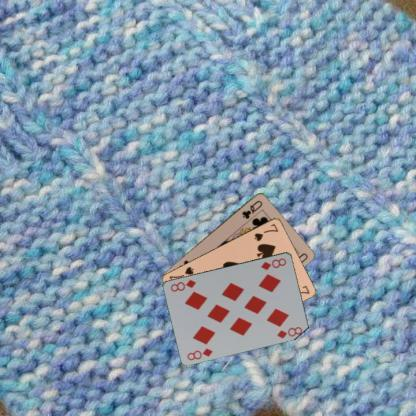7s: (252, 221, 280, 242)
8d: (258, 255, 288, 271), (185, 346, 214, 362)
Qc: (239, 198, 264, 220)
